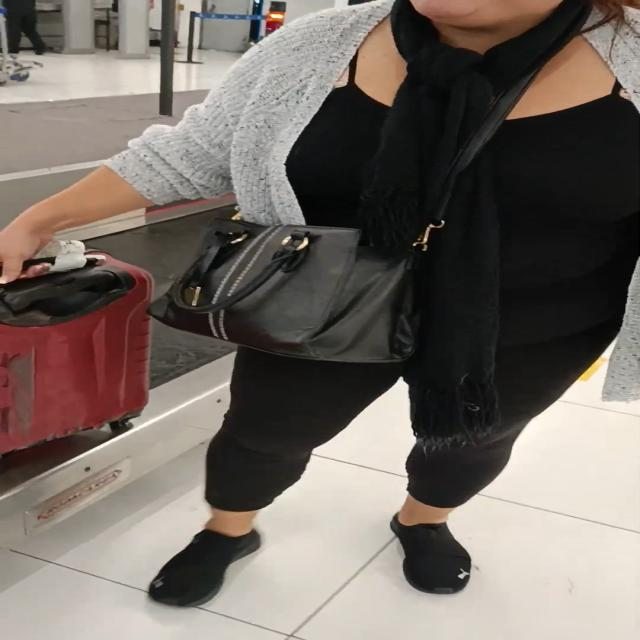Damage-bag: (0, 351, 140, 448)
